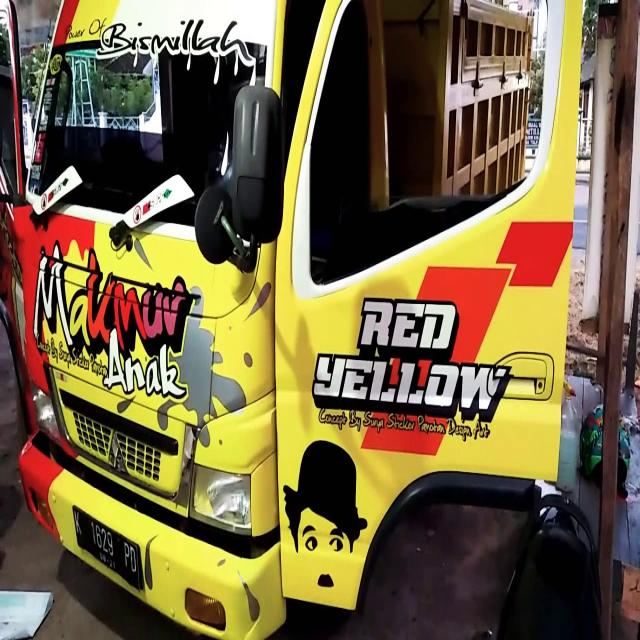truck: (1, 0, 583, 639)
